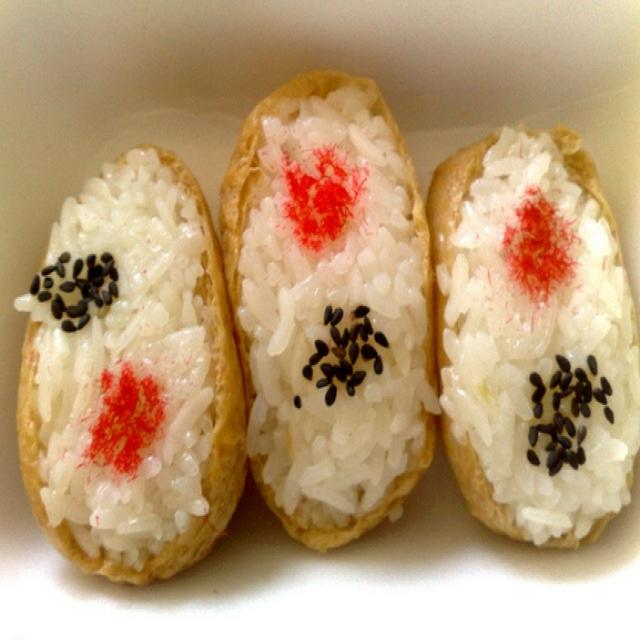寿司卷物: (4, 27, 634, 604)
